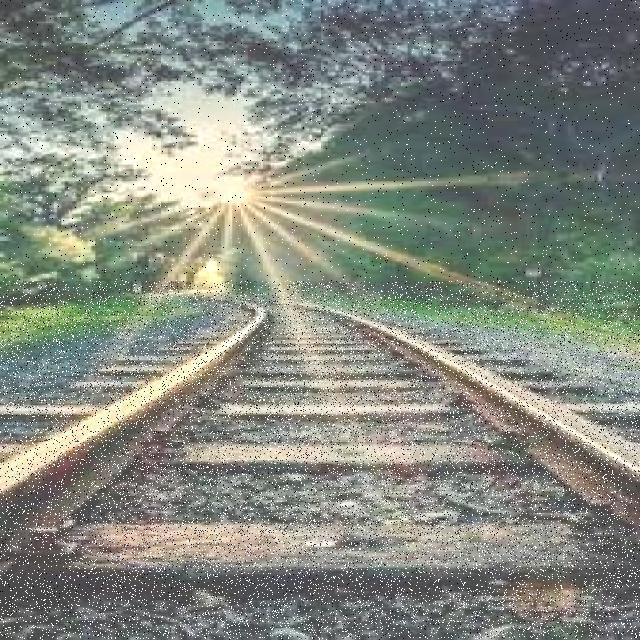rail: (0, 282, 640, 639)
